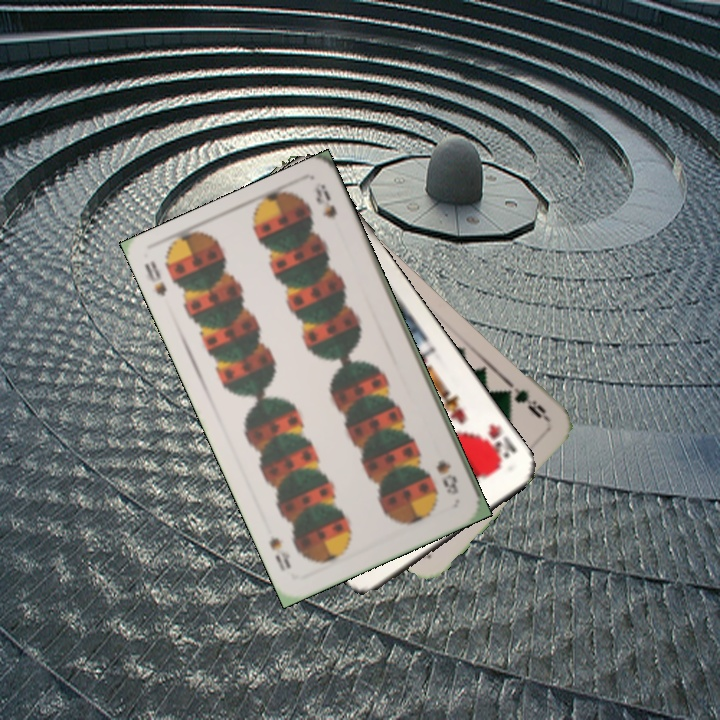G9: (500, 378, 552, 424)
HK: (474, 419, 519, 469)
S8: (140, 257, 170, 299), (432, 456, 461, 498)
